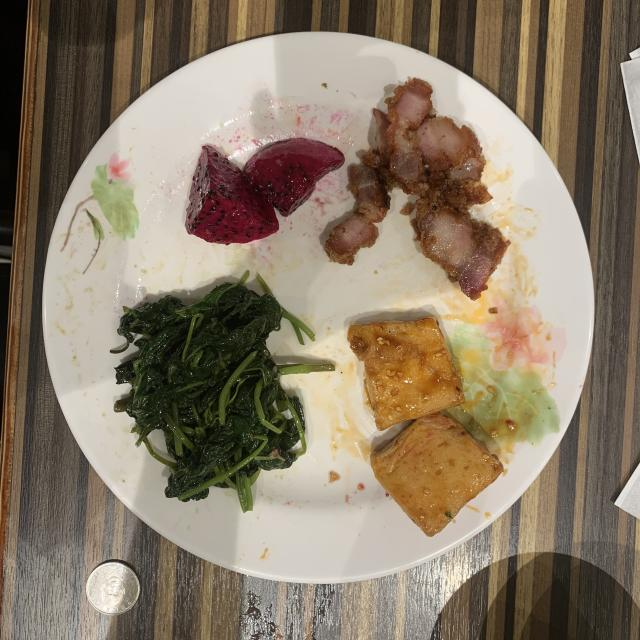coin: (86, 560, 140, 615)
creamy tofu: (348, 318, 504, 536)
red grilled pork: (325, 79, 509, 299)
sweet potato leaves: (115, 282, 305, 511)
